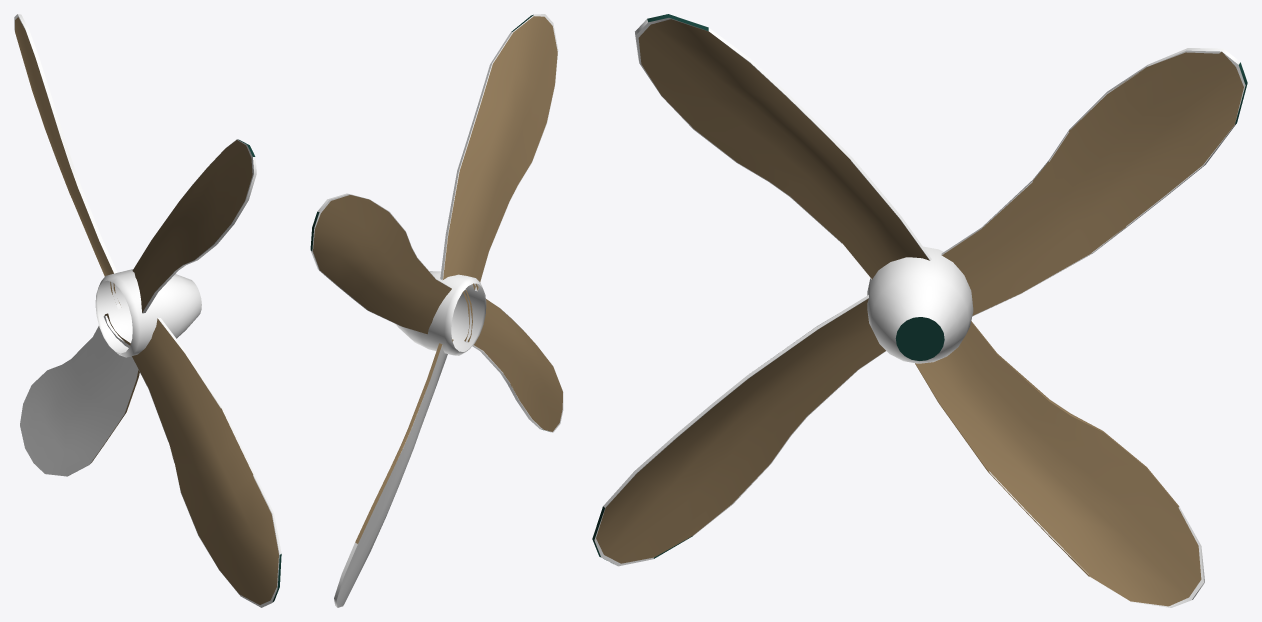
File: zeppelin_helice_arriba.obj
The picture shows the model from 3 angles, left to right: view 1: azimuth 30°, elevation 25°; view 2: azimuth 150°, elevation 25°; view 3: azimuth 270°, elevation 25°; orthographic projection. The views are drawn at different scales.
Parts seen in each view (by area): view 1: elice_arriba_Material.001; view 2: elice_arriba_Material.001; view 3: elice_arriba_Material.001.
Boxes of the visible parts, left/top/right/bottom form: elice_arriba_Material.001: left=14, top=14, right=281, bottom=607; elice_arriba_Material.001: left=310, top=14, right=563, bottom=607; elice_arriba_Material.001: left=592, top=14, right=1247, bottom=607.
Bounding box in the file's own units: 0.6864 × 4.02 × 4.02.
